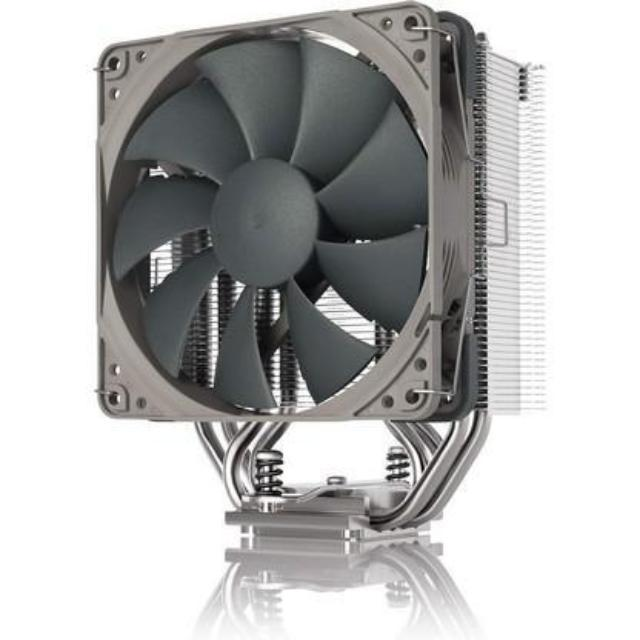CPU_Fan: (85, 1, 550, 567)
